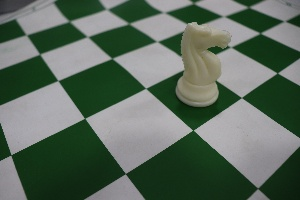white_horse: (171, 9, 234, 118)
